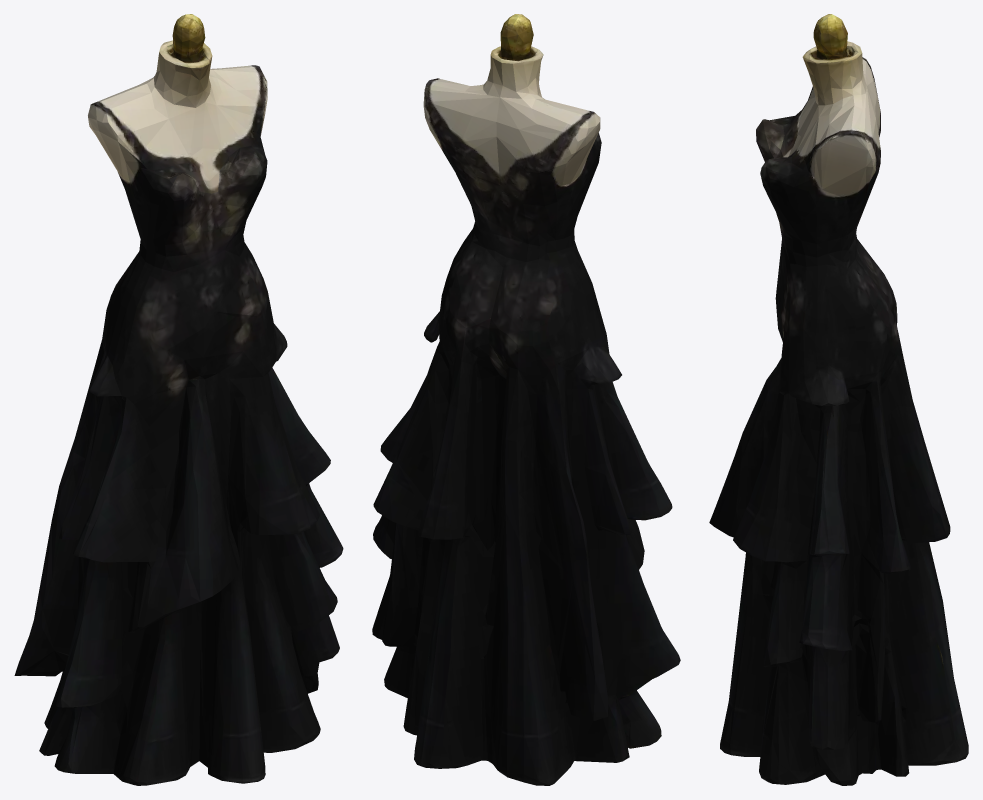
3 renders of one model, left to right at view 1: azimuth 30°, elevation 25°; view 2: azimuth 150°, elevation 25°; view 3: azimuth 270°, elevation 25°, orthographic. The views are drawn at different scales.
Visible parts, largest first — view 1: geometry_0; view 2: geometry_0; view 3: geometry_0.
Boxes of the visible parts, x1,y1,x2,y2 form: geometry_0: (14, 14, 343, 785); geometry_0: (372, 14, 680, 785); geometry_0: (709, 14, 968, 785).
Size of the model in its own units: 0.4252 by 0.9979 by 0.3227.
1 material, 1 textured.
